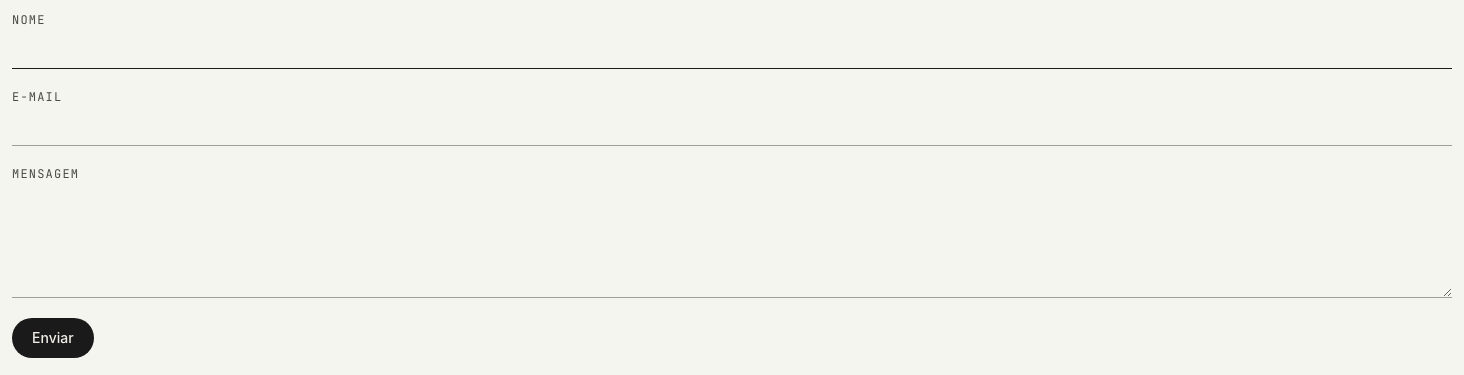
Test: ContactForm › bloqueia o botão enquanto envia
Step 1. Type "Ana" into the field labelled "Nome" → (732, 50), box [12,32,1452,69]
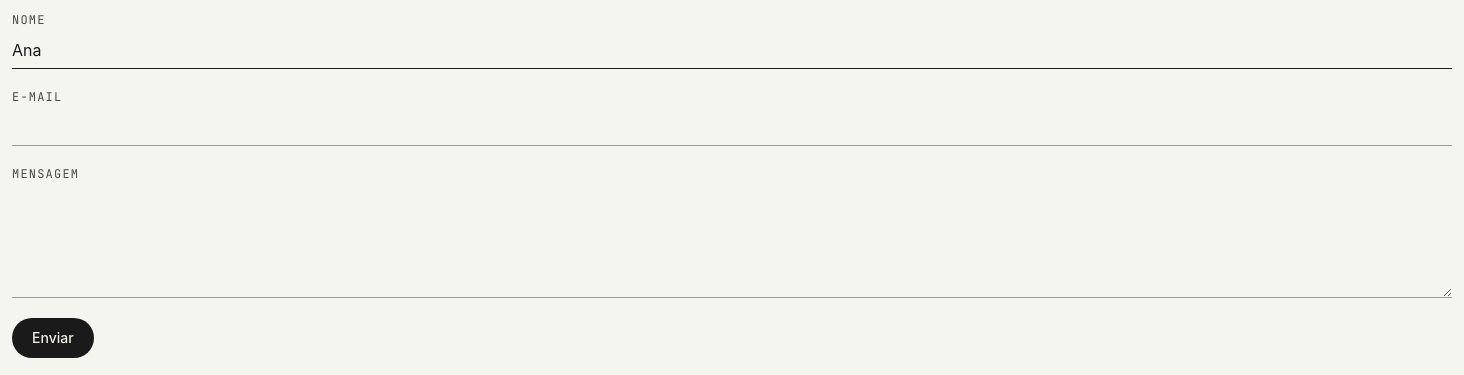
Step 2. Type "ana@exemplo.com" into the field labelled "E-mail" → (732, 128), box [12,109,1452,146]
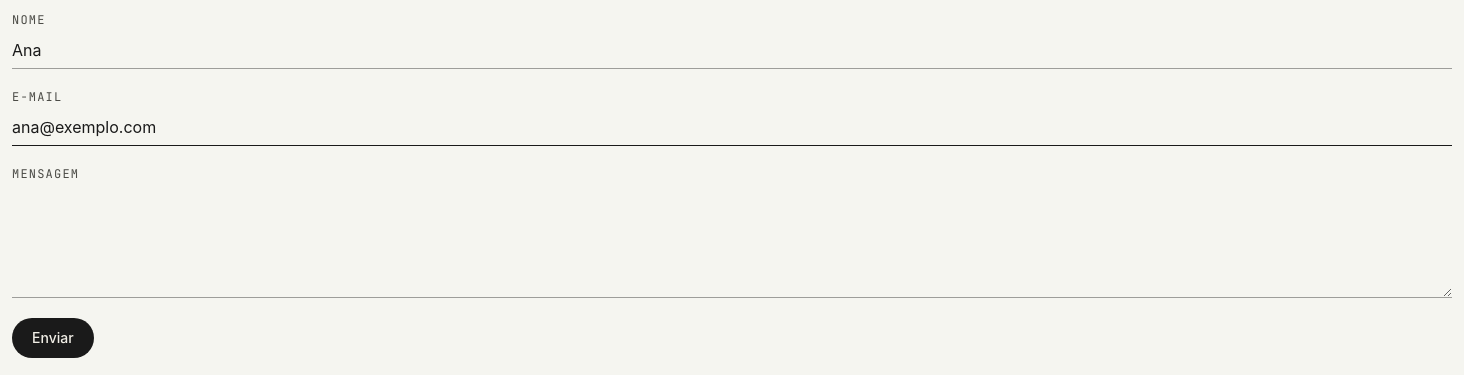
Step 3. Type "Quero conversar sobre um projeto novo." into the text box labelled "Mensagem" → (732, 242), box [12,186,1452,298]
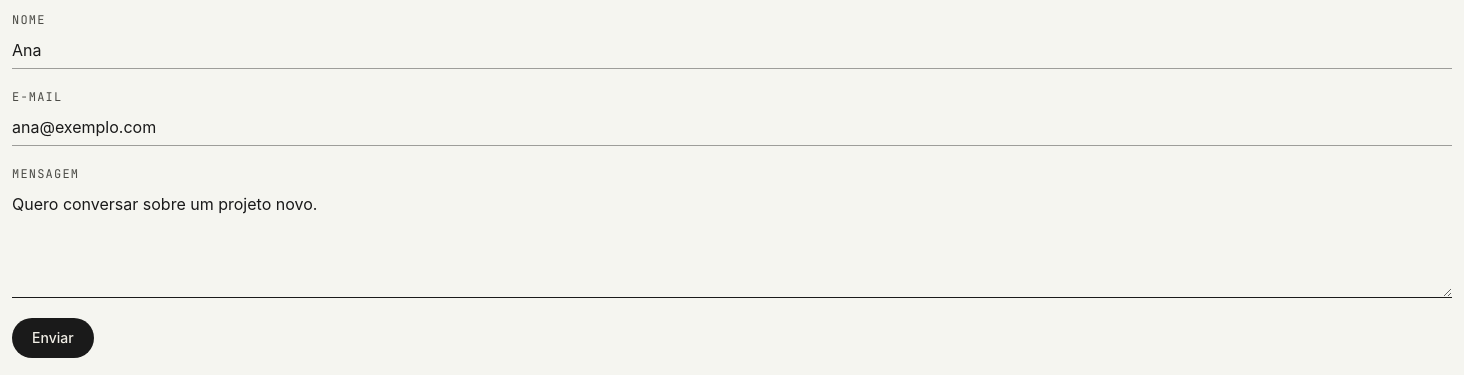
Step 4. Click the button "Enviar" → (53, 338), box [12,318,94,358]
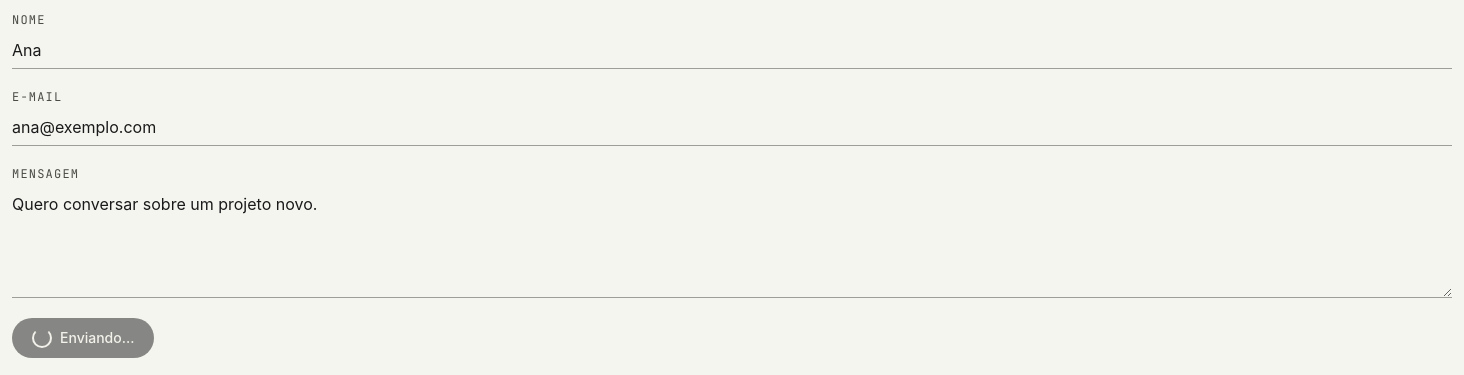
Now the button "Enviando…" is disabled, box [12,318,154,358]
